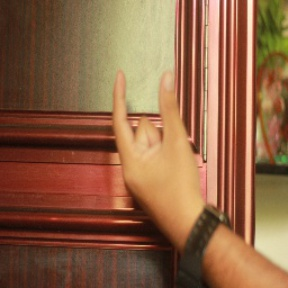U: (99, 62, 200, 205)
